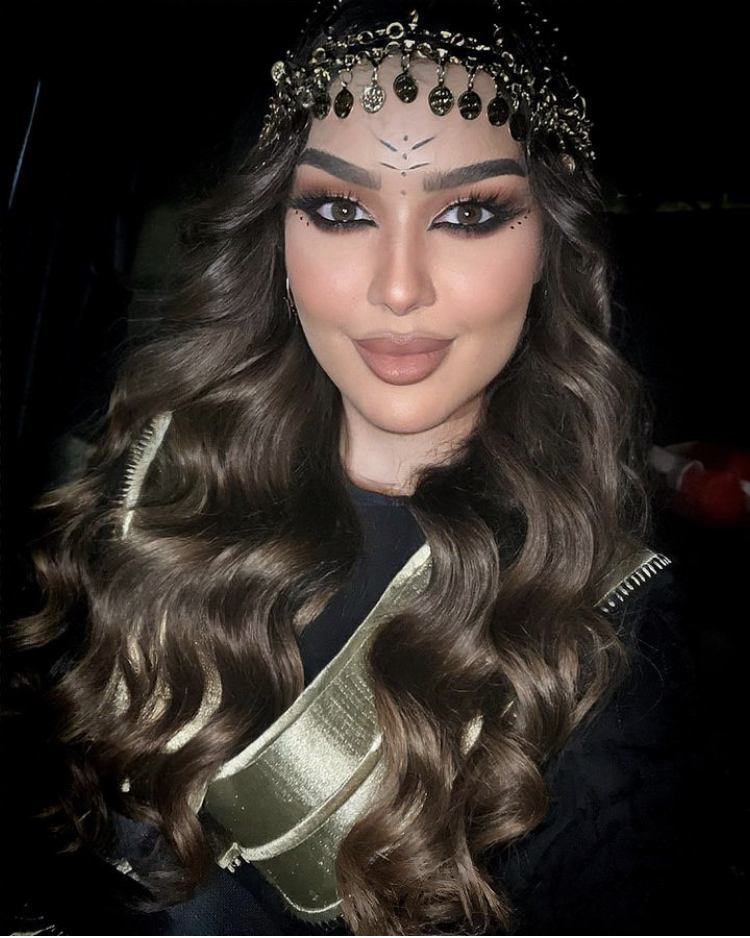Saudi_Founding_Day: (18, 2, 750, 936)
